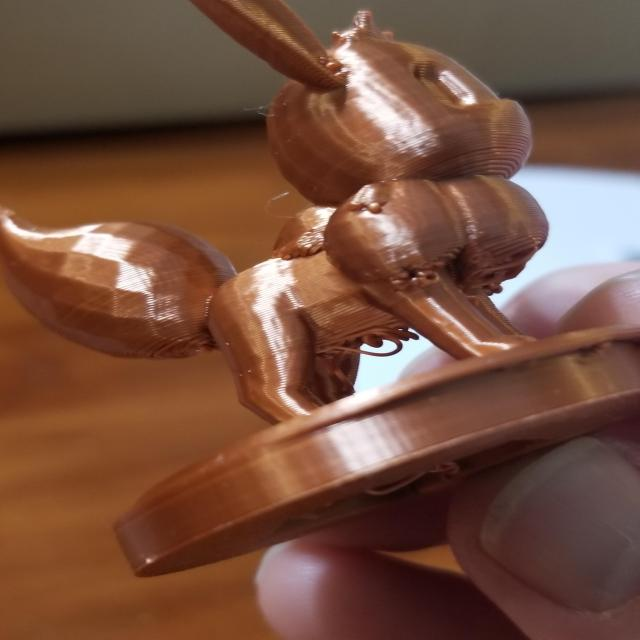Without deffect: (2, 0, 639, 580)
